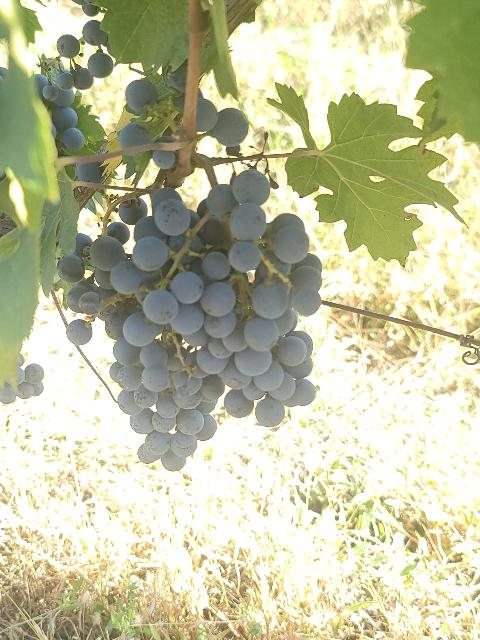grapes: (144, 170, 321, 426), (59, 230, 216, 471)
